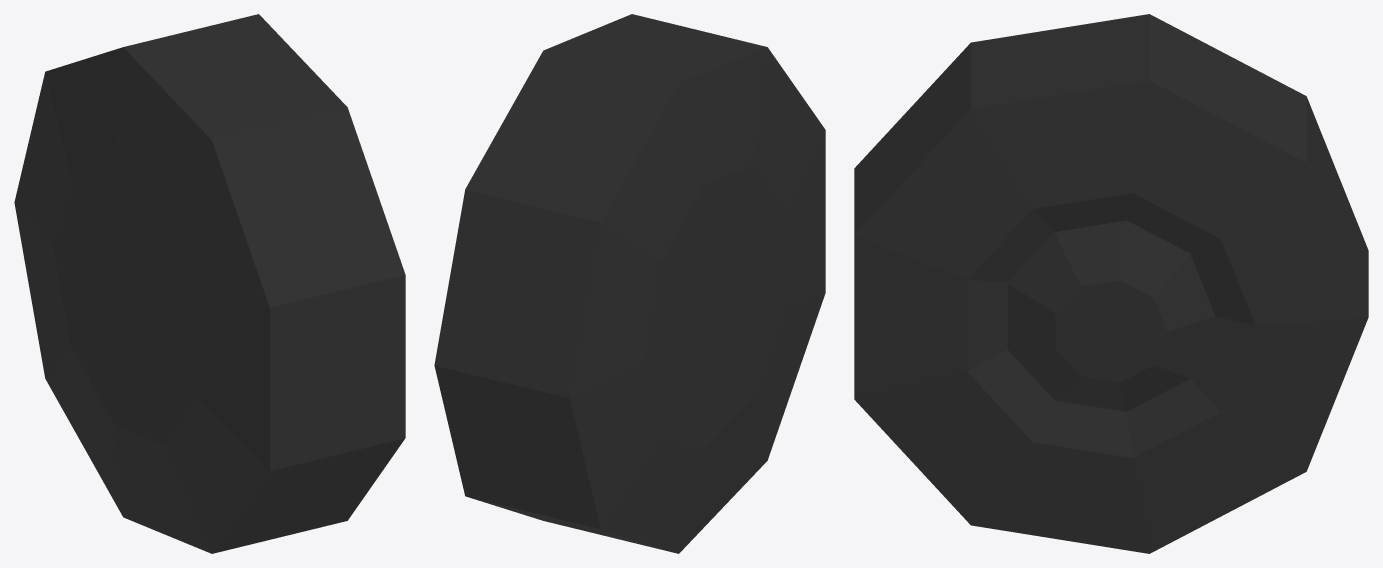
Rendered from car-police-wheel_FL.glb.
3 views of the same model, side by side, from view 1: azimuth 30°, elevation 25°; view 2: azimuth 150°, elevation 25°; view 3: azimuth 270°, elevation 25° (orthographic).
Parts seen in each view (by area): view 1: car-police-wheel_FL; view 2: car-police-wheel_FL; view 3: car-police-wheel_FL.
Part boxes in pixels (x1,y1,x2,y2): car-police-wheel_FL: [14, 14, 405, 553]; car-police-wheel_FL: [434, 14, 825, 553]; car-police-wheel_FL: [854, 14, 1368, 553].
Size of the model in its own units: 0.2857 by 0.7073 by 0.6966.
1 material, 1 textured.
